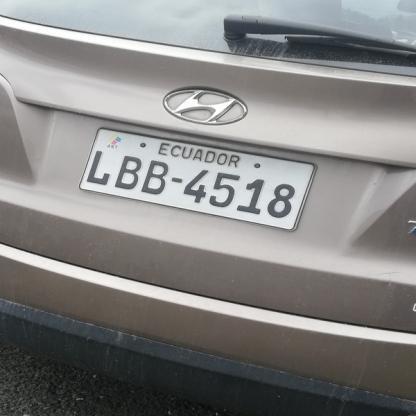Placa: (79, 114, 321, 232)
